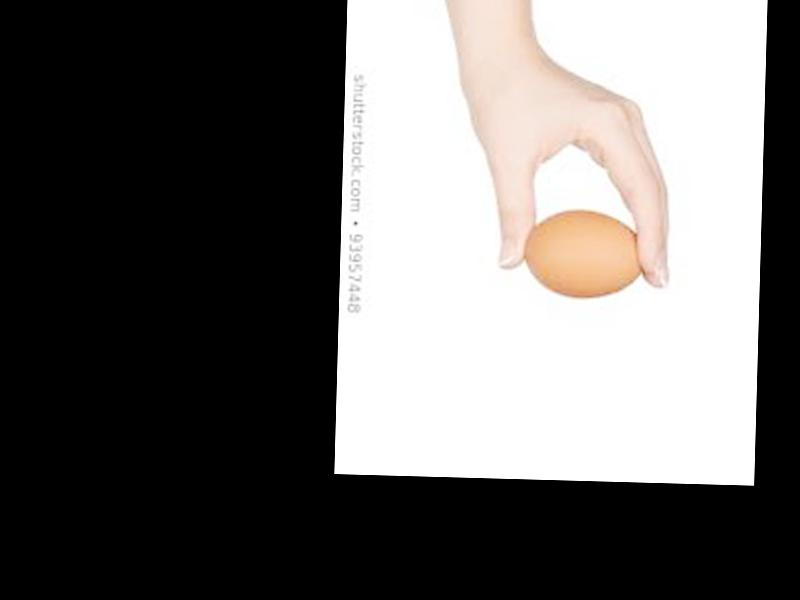Eggs: (522, 210, 650, 299)
